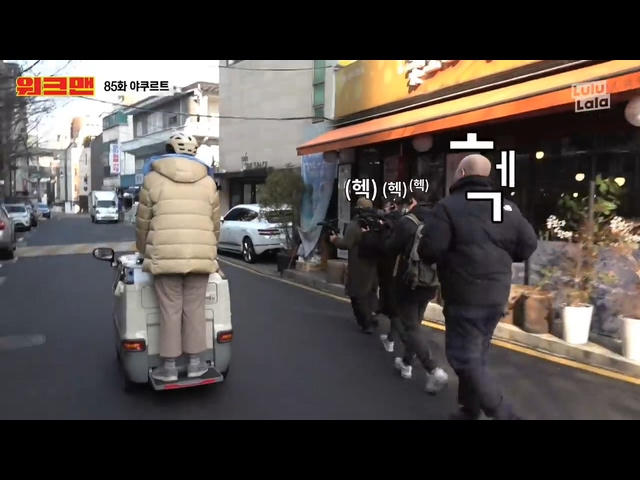Yakurut: (144, 137, 226, 384)
